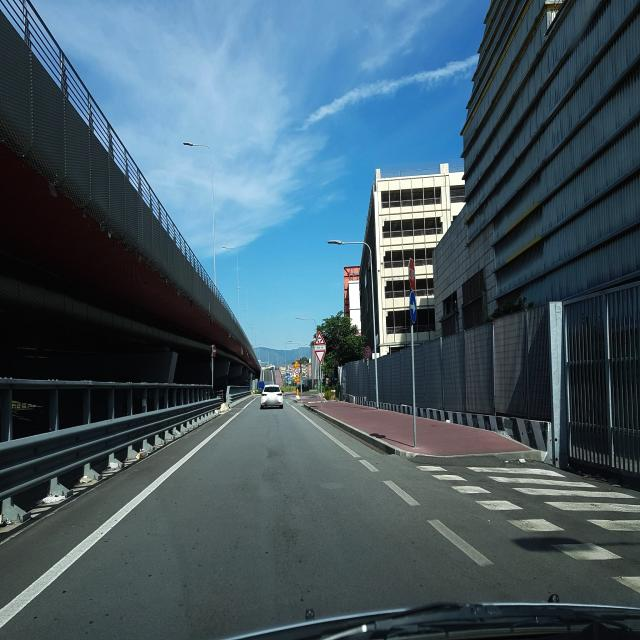car: (260, 384, 284, 409)
